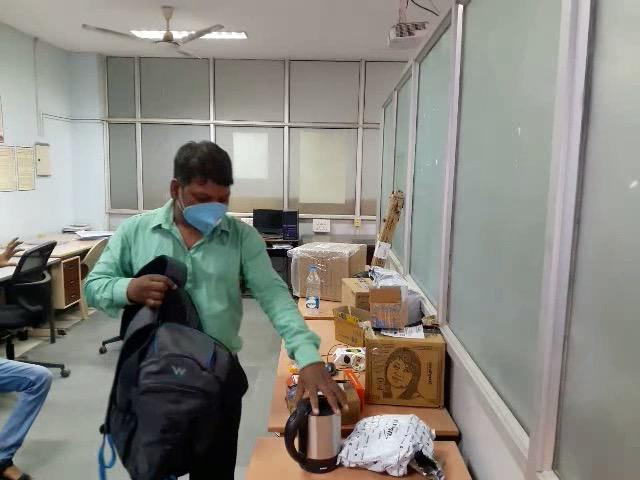shoplifting: (85, 246, 361, 480)
